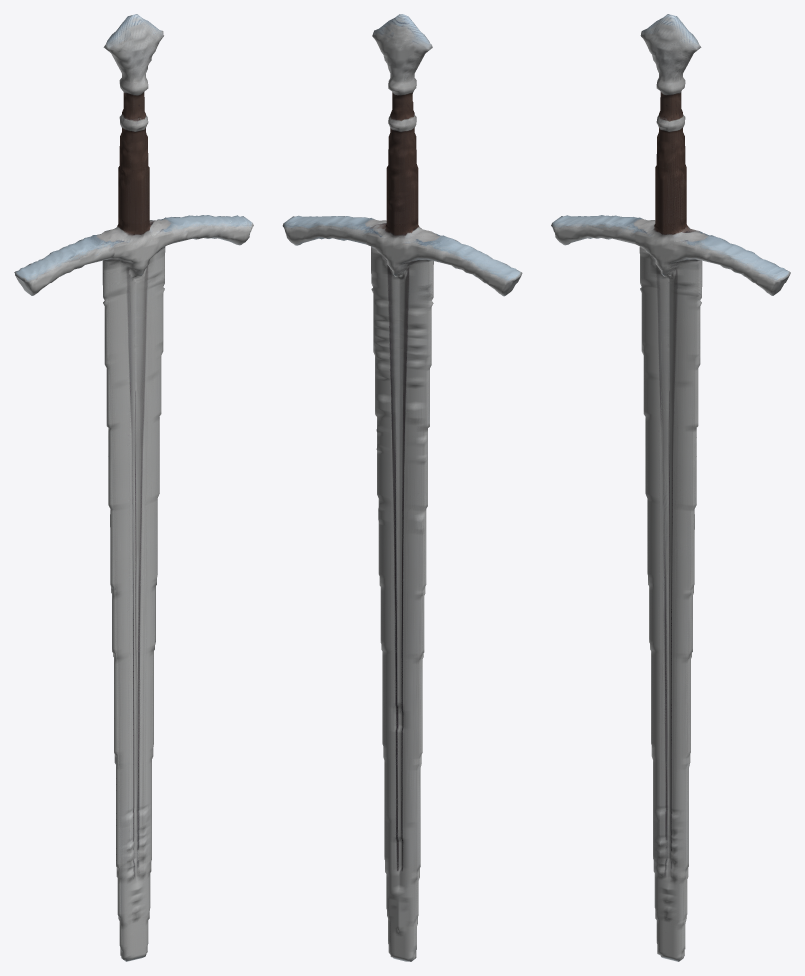
File: sword_ld_v1.glb
3 renders of one model, left to right at view 1: azimuth 30°, elevation 25°; view 2: azimuth 150°, elevation 25°; view 3: azimuth 330°, elevation 25°, orthographic.
Bounding box in the file's own units: 0.4892 × 1.91 × 0.0665.
Materials: 1 (1 with a texture image).
